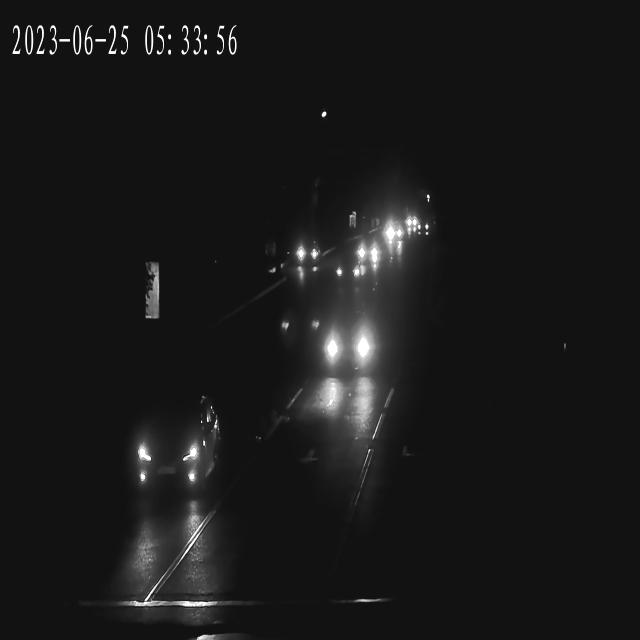Car: (133, 394, 228, 508), (324, 304, 379, 384), (330, 248, 366, 296), (292, 233, 327, 273), (357, 232, 380, 280), (384, 216, 406, 250), (408, 215, 425, 236)
